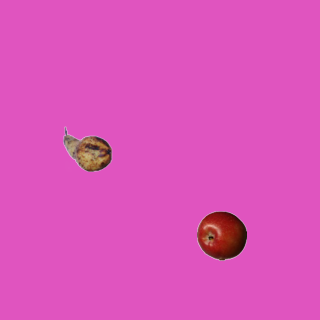Apple Braeburn: (196, 210, 246, 260)
Pear Abate: (62, 124, 112, 174)
